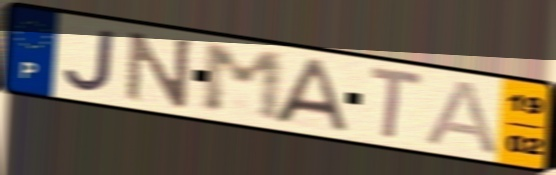A: (422, 77, 502, 158), (272, 56, 351, 134)
J: (61, 27, 118, 94)
M: (200, 41, 286, 125)
N: (123, 29, 195, 110)
T: (366, 62, 428, 143)
